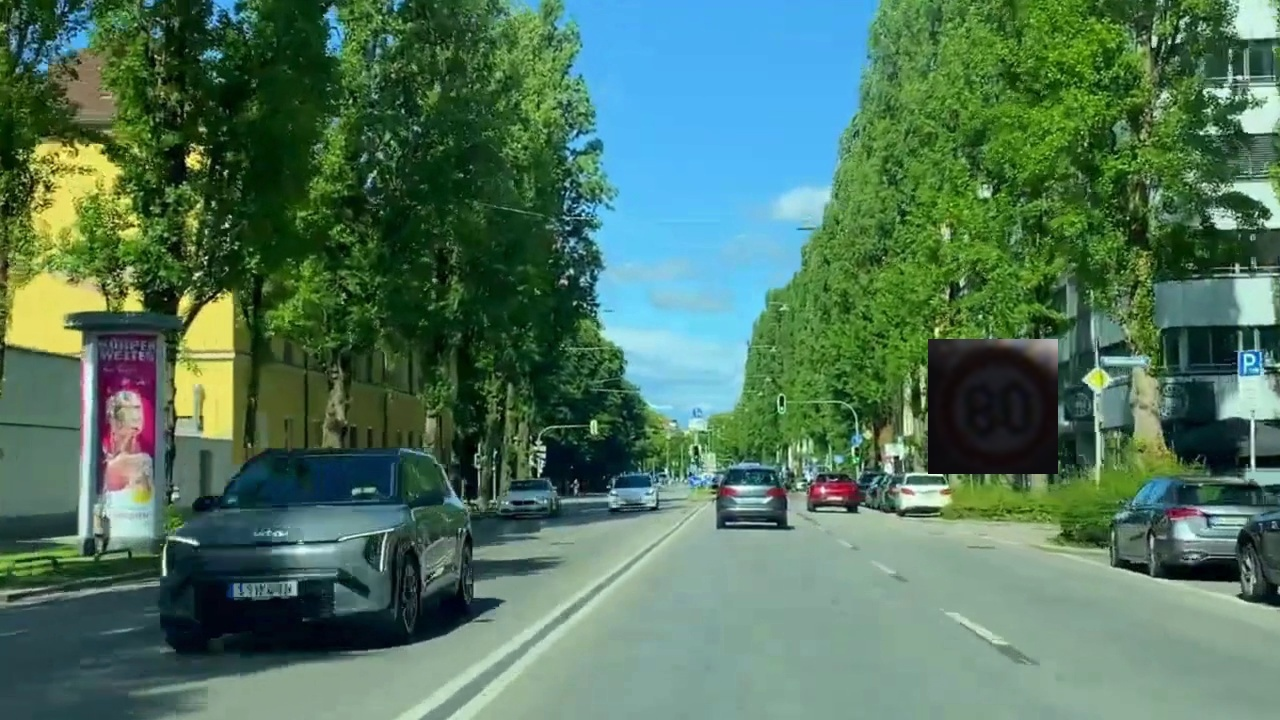Speed 80: (928, 339, 1058, 474)
